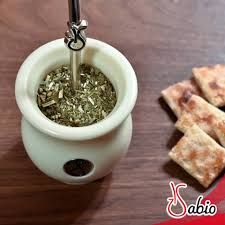guampa: (11, 1, 138, 185)
